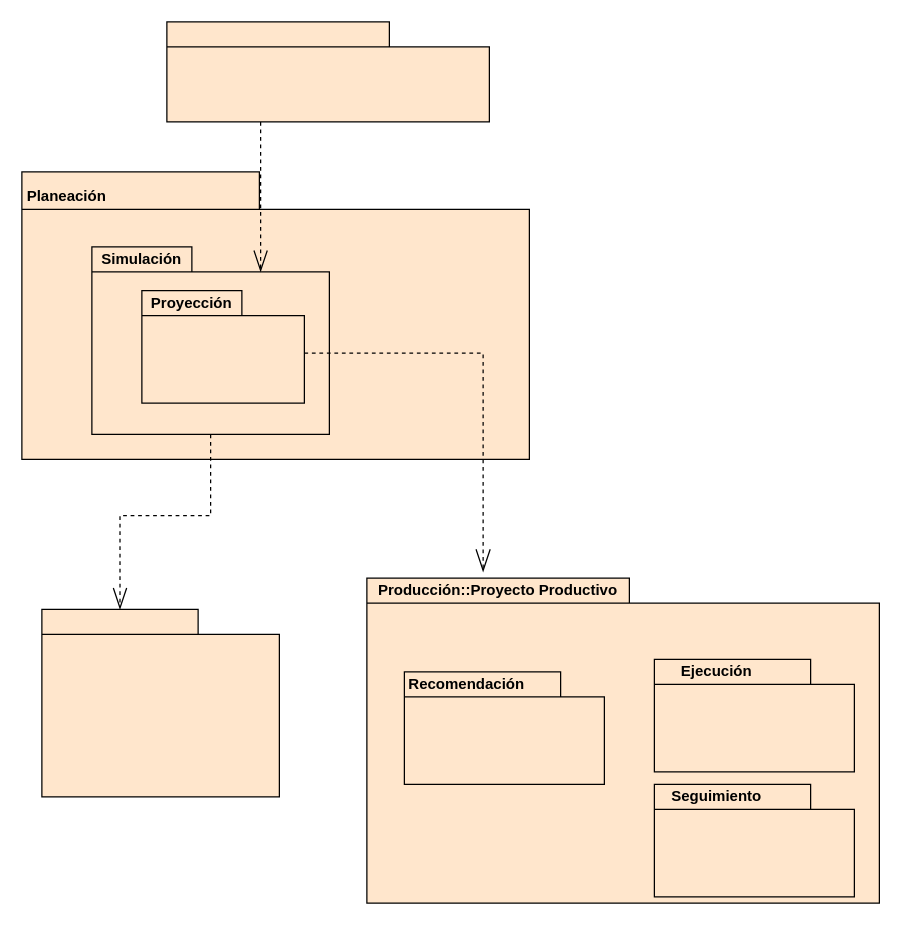
This 901x925 diagram has some shape labels left out. The box of each missing label's shape, as (x1, y1, x2, y2) in pixels:
Administración::Parámetros: (166, 21, 489, 122)
Analitica::Informe: (41, 608, 279, 797)
